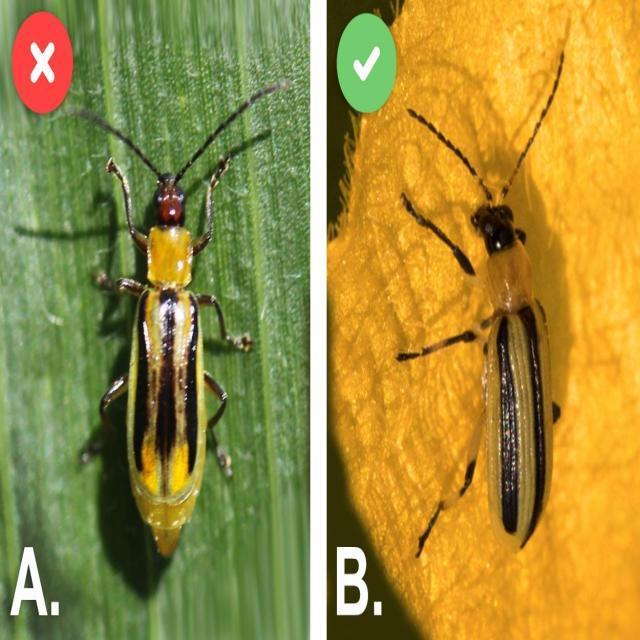trips: (388, 97, 592, 567)
